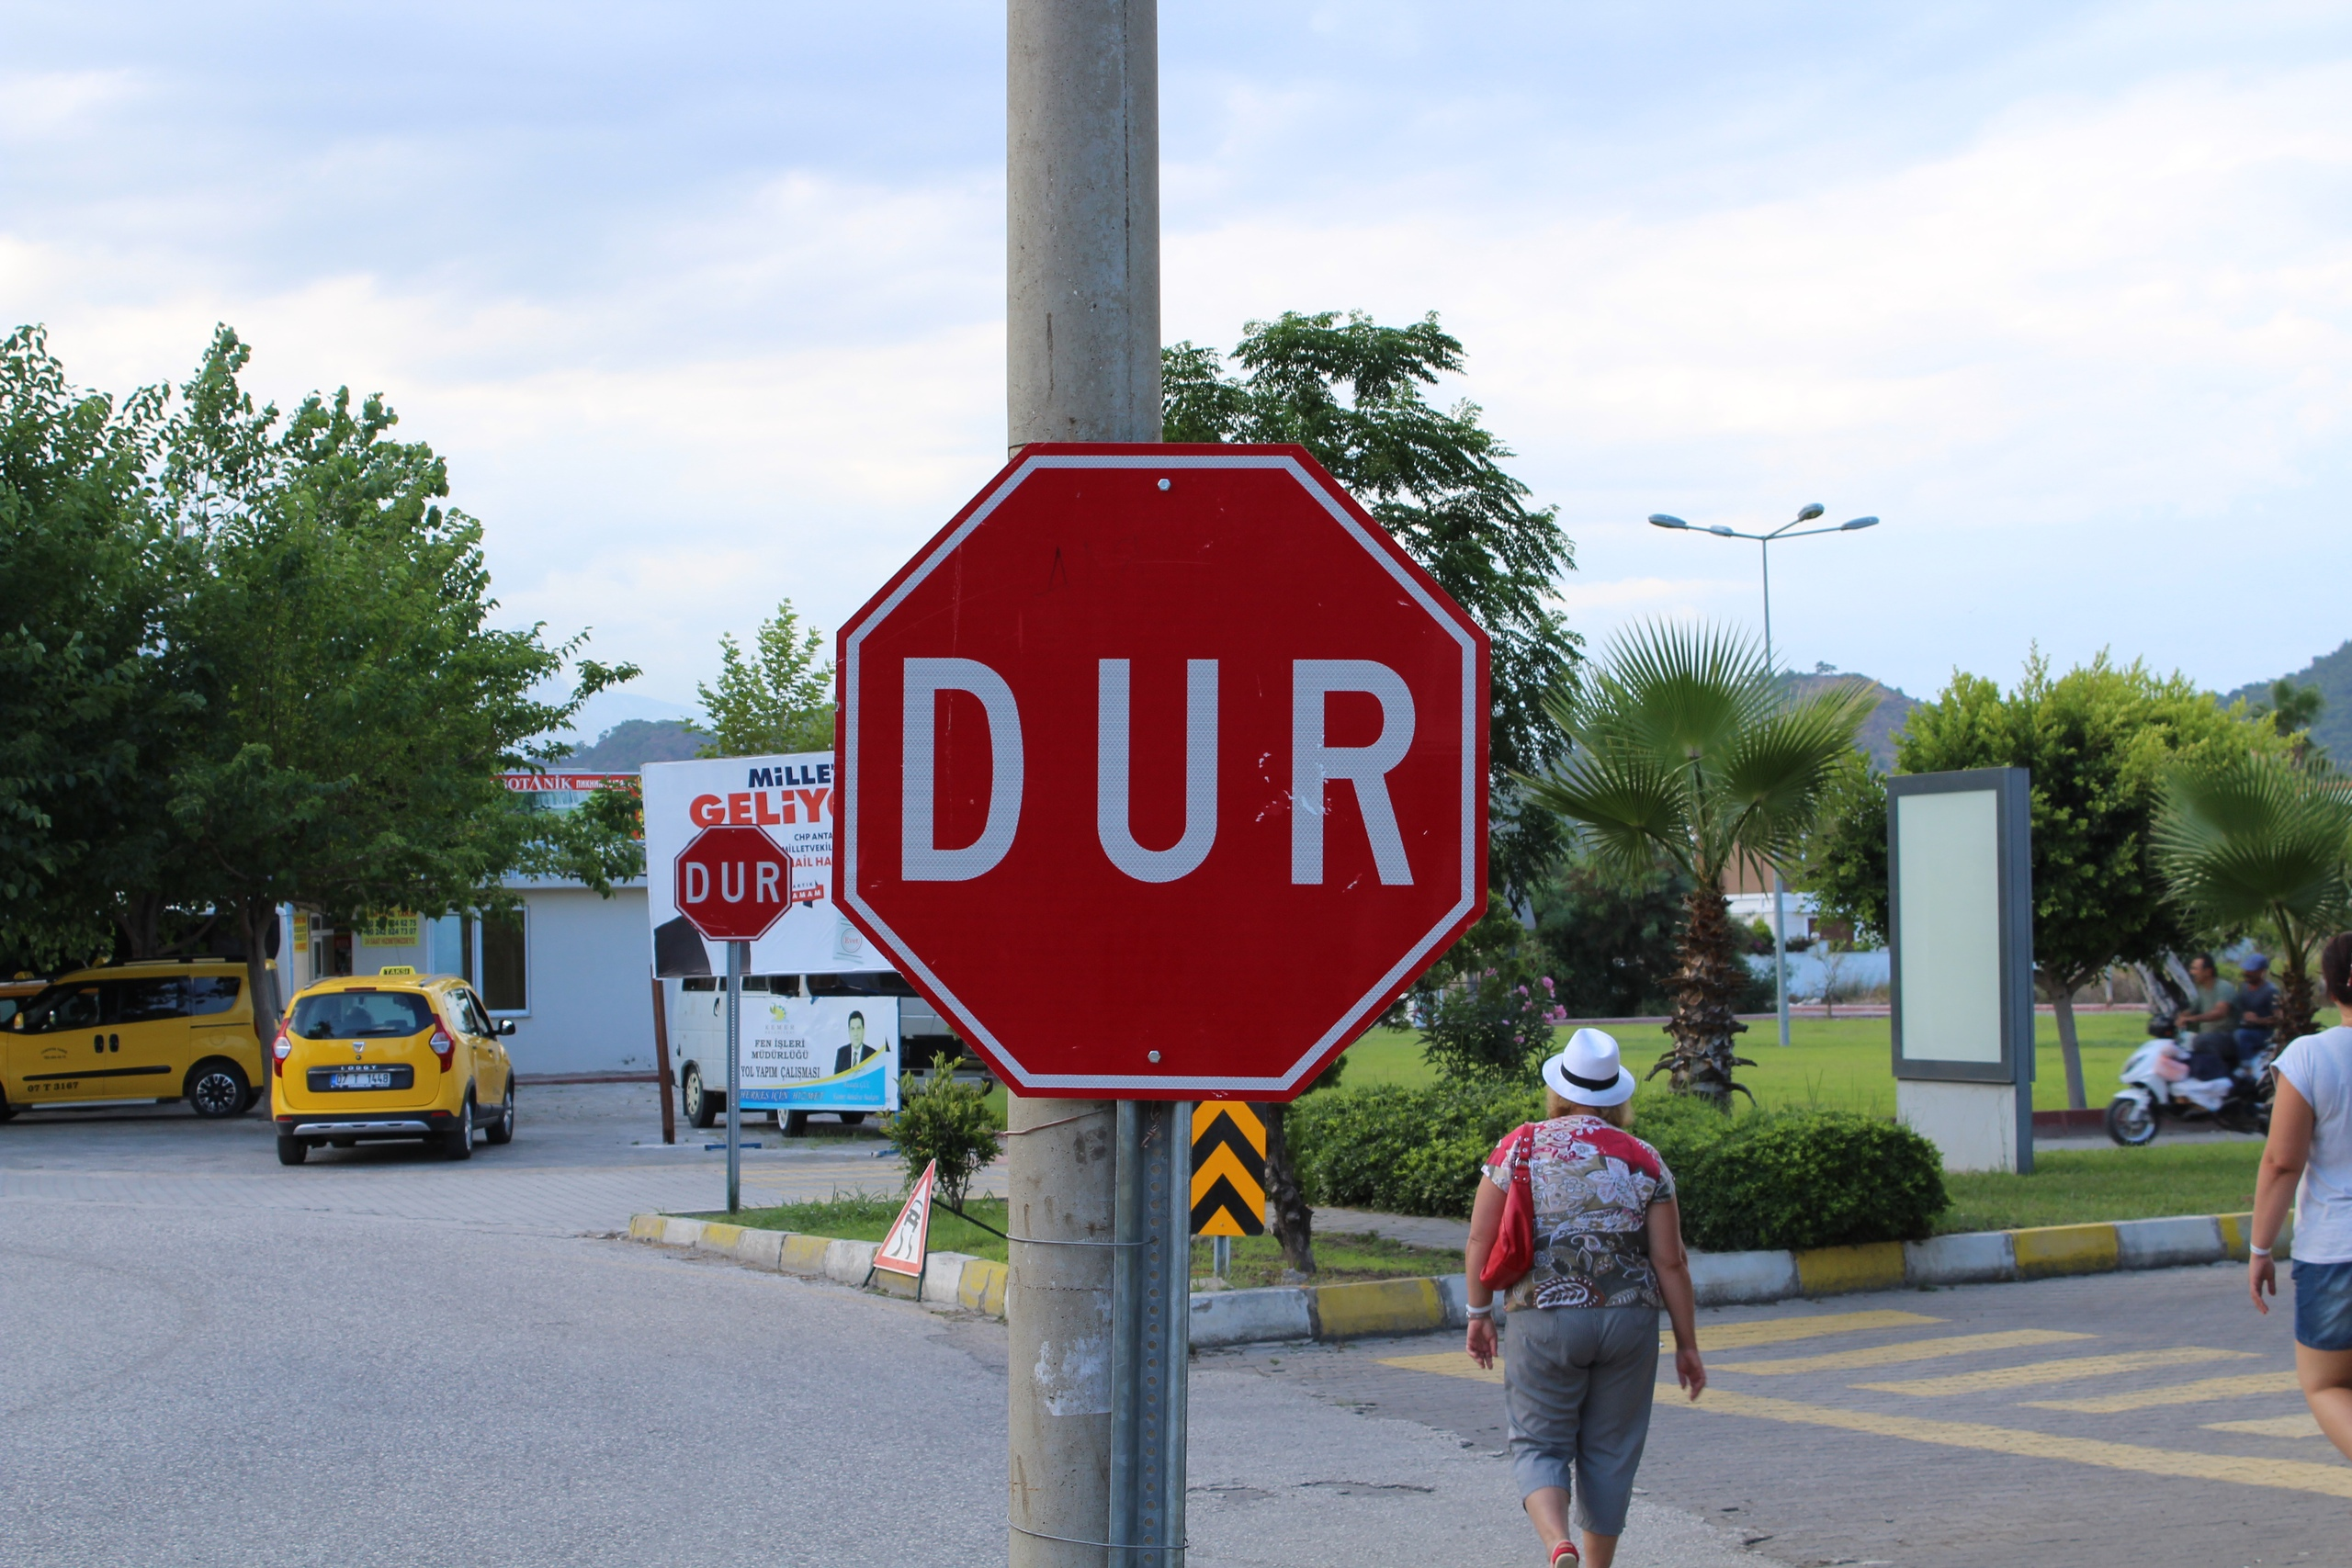dur: (827, 435, 1487, 1103), (660, 820, 801, 941)
otomobil: (257, 957, 549, 1178), (6, 947, 260, 1136)
yaya: (1446, 1023, 1695, 1564), (1867, 759, 2062, 1199), (2209, 937, 2346, 1491)
